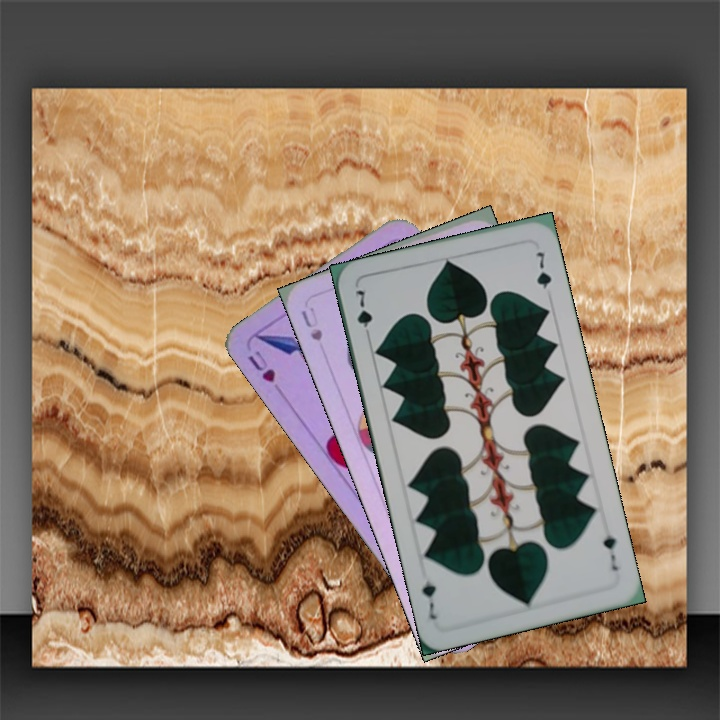G7: (351, 284, 375, 343), (599, 530, 621, 574)
HU: (243, 346, 278, 386)
SU: (297, 303, 326, 344)
